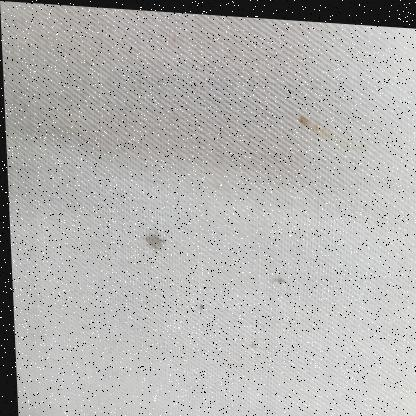spot: (293, 101, 345, 144), (138, 221, 168, 255), (271, 271, 288, 289), (241, 331, 258, 349), (195, 298, 205, 310)
